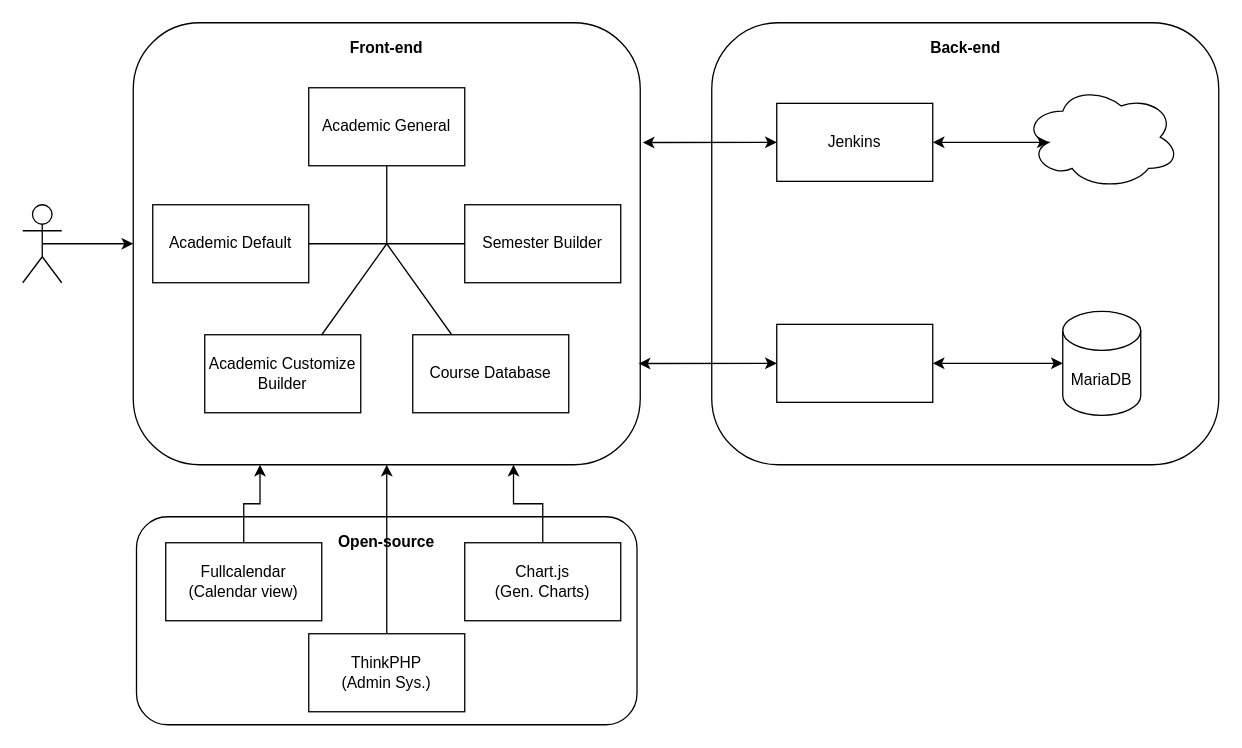
The diagram is 1242 pixels wide and 748 high, and some of its shapes have lost their labels. Each missing label, with the centre of its shape:
Actor: the point at 41,243
GitHub Repo.: the point at 1101,136
PhpMyAdmin: the point at 854,362
